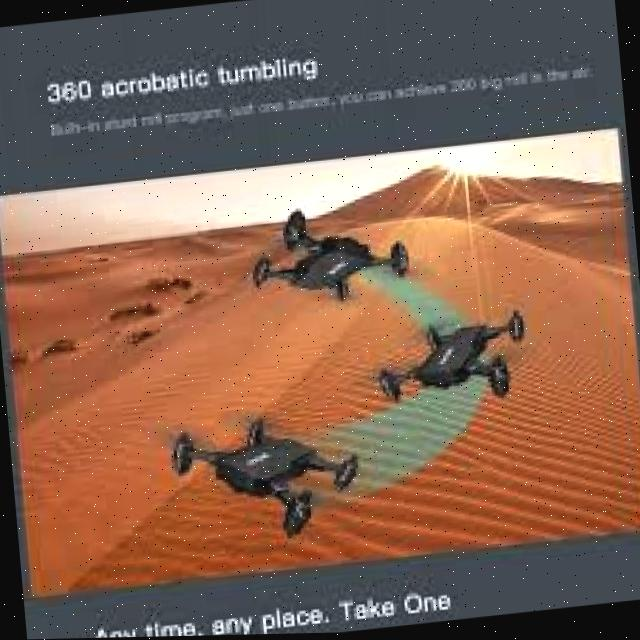drone: (148, 381, 383, 548), (232, 190, 418, 333), (347, 298, 548, 420)
